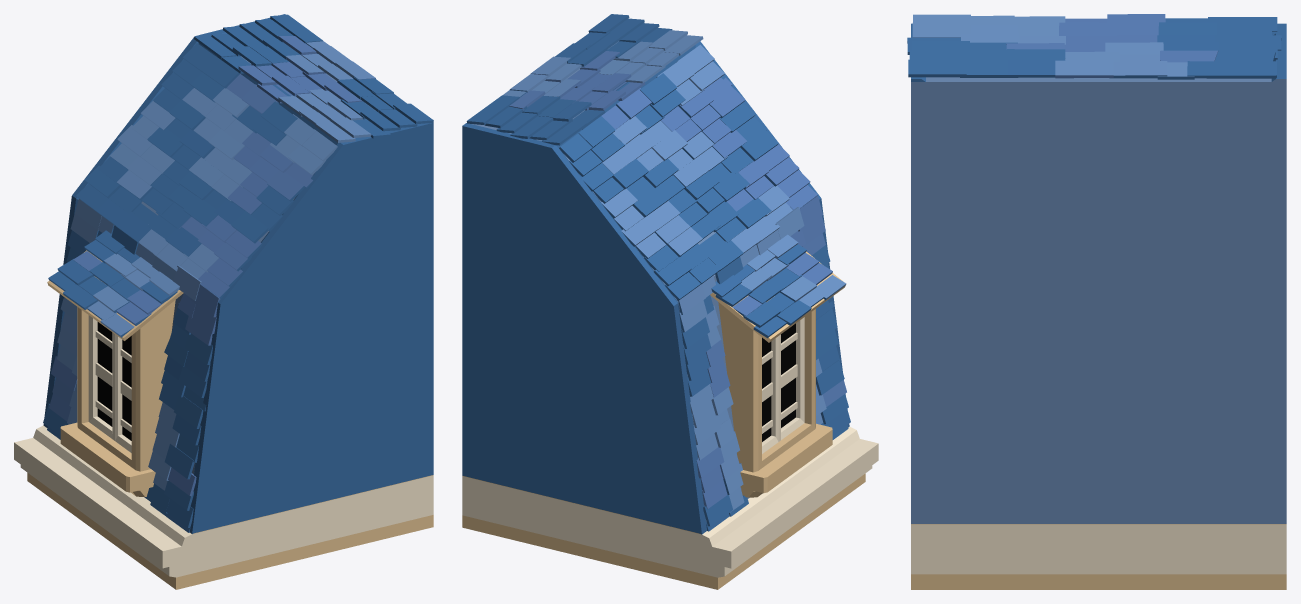
File: Roof_Side_2.fbx
3 renders of one model, left to right at view 1: azimuth 30°, elevation 25°; view 2: azimuth 150°, elevation 25°; view 3: azimuth 270°, elevation 25°, orthographic. The views are drawn at different scales.
Visible parts, largest first — view 1: Roof_Side_2; view 2: Roof_Side_2; view 3: Roof_Side_2.
Boxes of the visible parts, bbox=[...] form: Roof_Side_2: bbox=[14, 14, 433, 589]; Roof_Side_2: bbox=[462, 14, 878, 589]; Roof_Side_2: bbox=[907, 14, 1286, 589].
Bounding box in the file's own units: 215 × 202 × 305.
